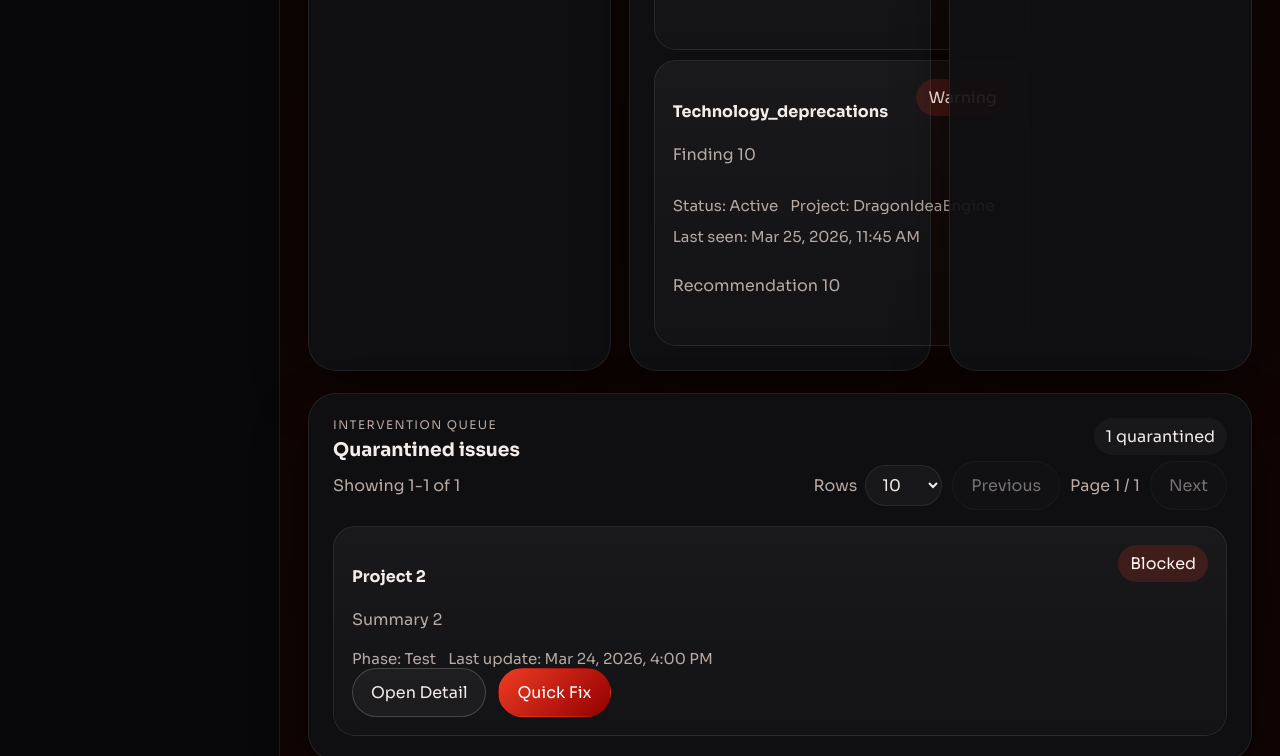
React dashboard › shows quarantined issues and queues a guided fix with operator input
(page scrolled)
Expected: the text "Project 2" is shown, [352, 566, 426, 587]
Click the button "Open Detail" at (419, 692), box [352, 668, 486, 717]
(page scrolled)
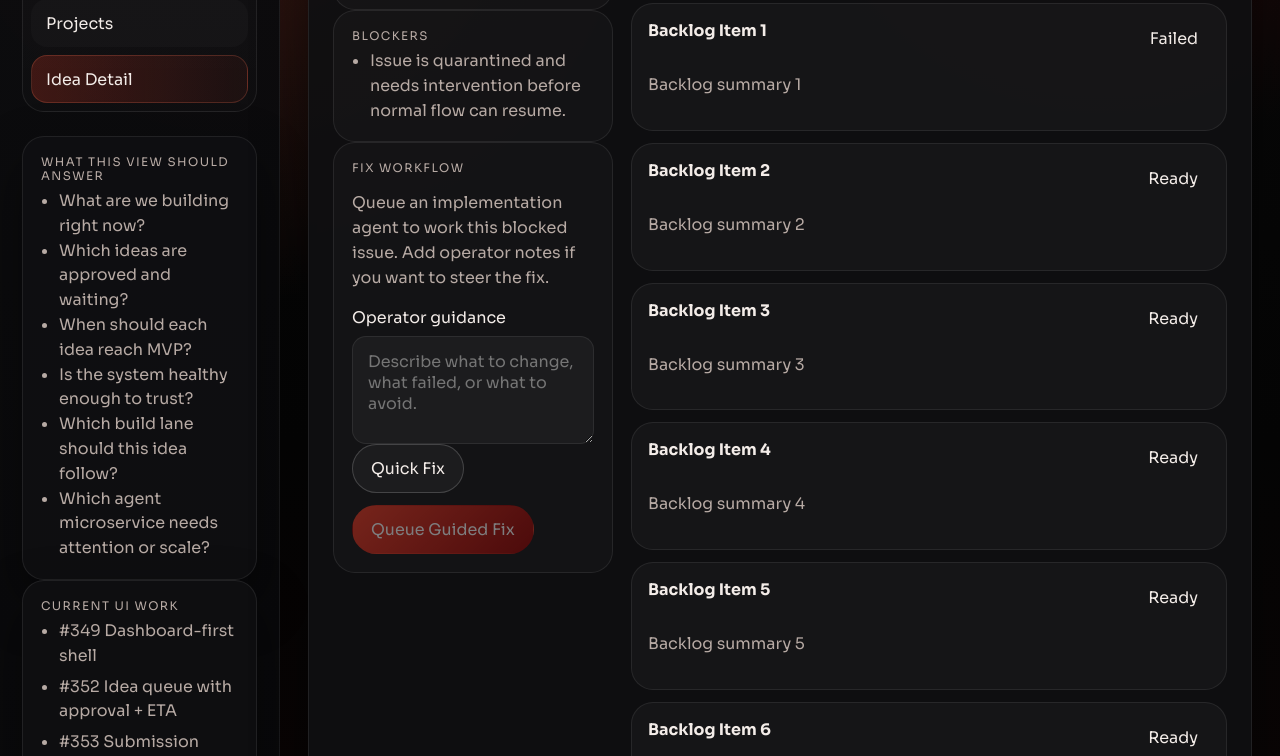
Type "Focus on the failing test path first." into the text box with placeholder "Describe what to change, what failed, or what to avoid." at (473, 390), box [352, 336, 594, 444]
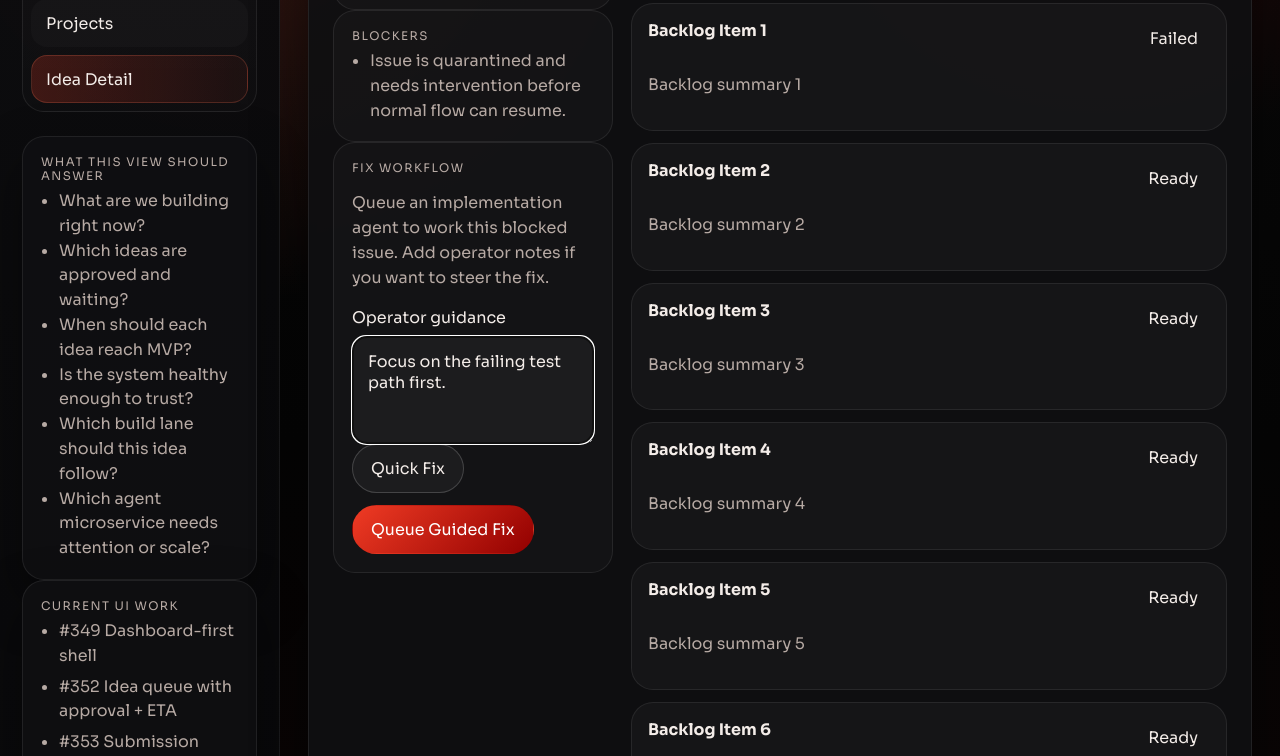
Click the button "Queue Guided Fix" at (443, 529), box [352, 505, 534, 554]
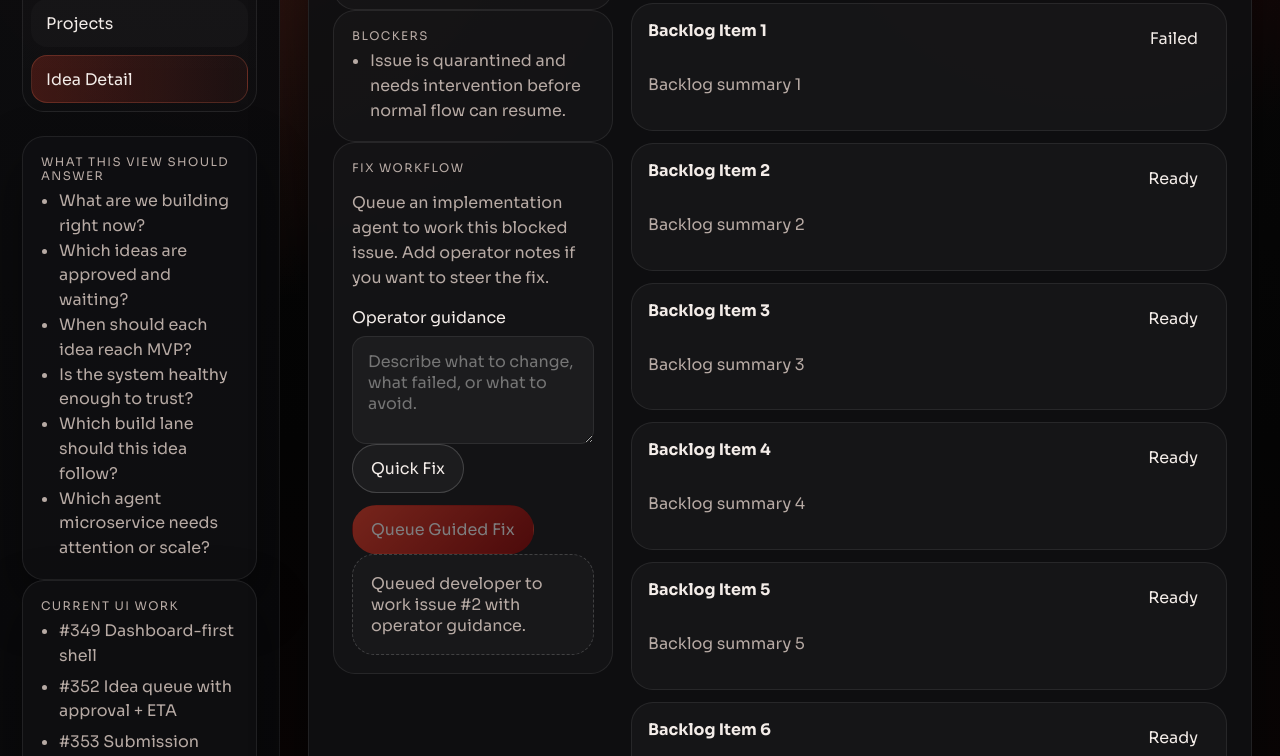
Expected: the text "Queued developer to work issue #2 with operator guidance." is shown, [352, 554, 594, 655]
